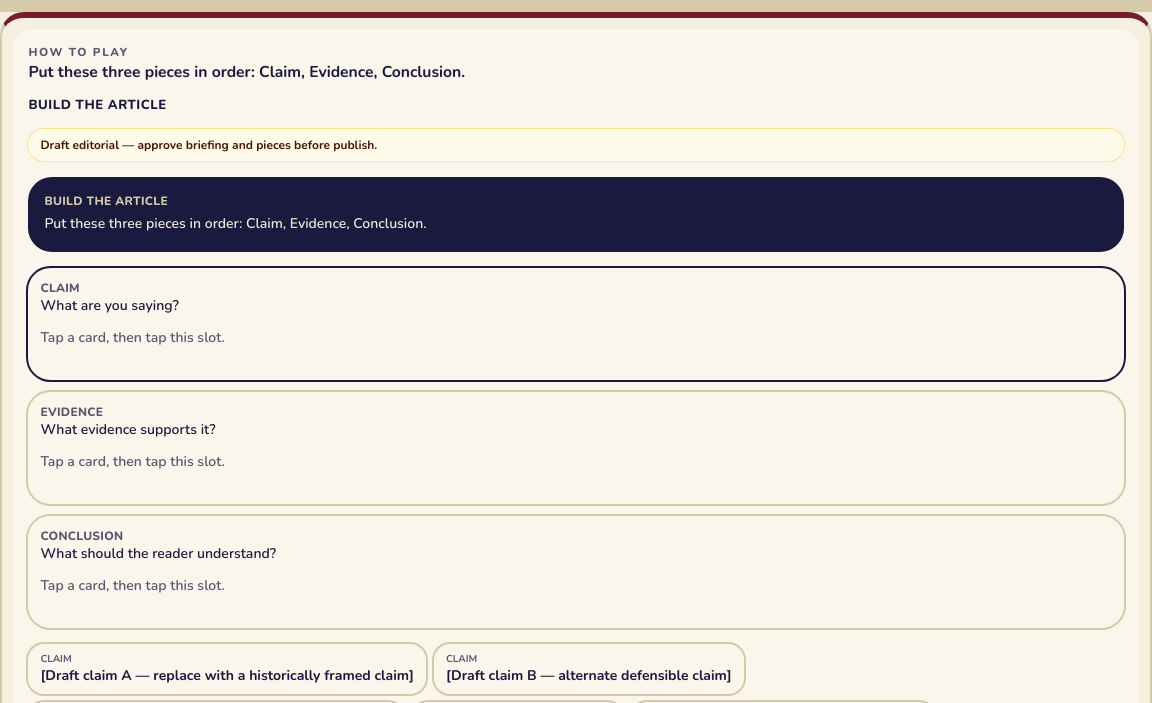
Test case: EditorialGame › starts with three tap-first slots and hides scoring preview
The image size is (1152, 703).
Expected: the 1st text "Build the article" is shown, [28,96,167,114]
Click the button "Draft claim A".
click(227, 669)  # box [28,644,426,694]
(page scrolled)
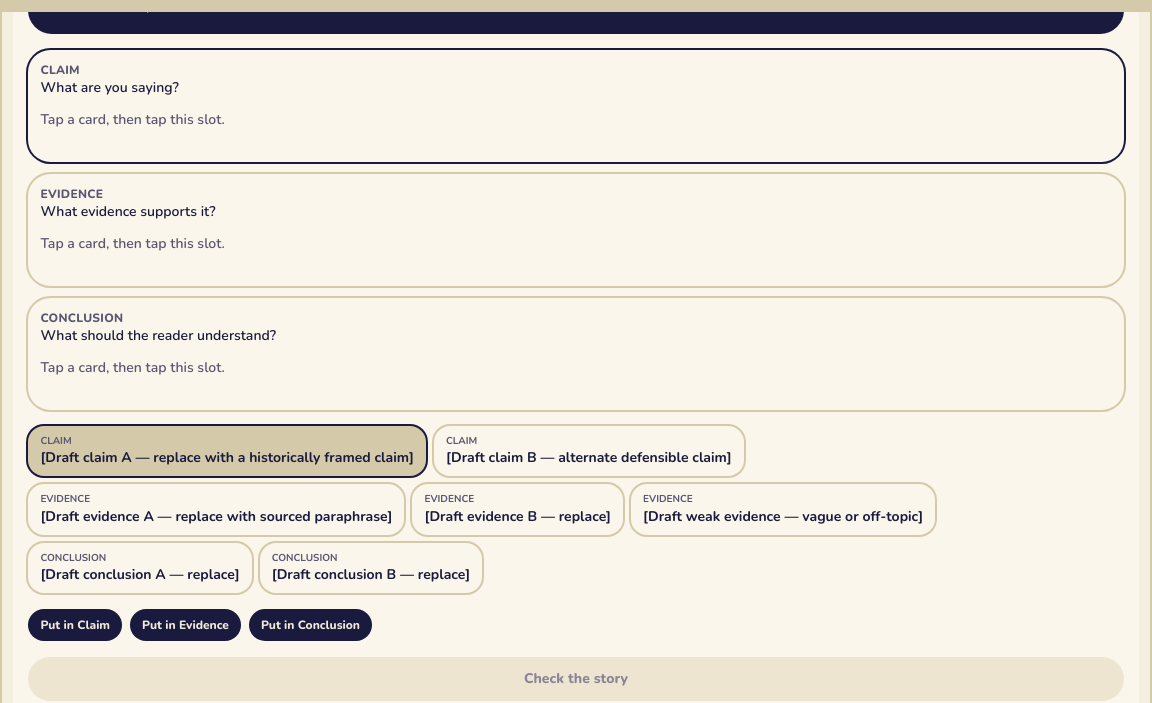
Result: the button "Put in Claim" is shown at [28,609,122,641]
